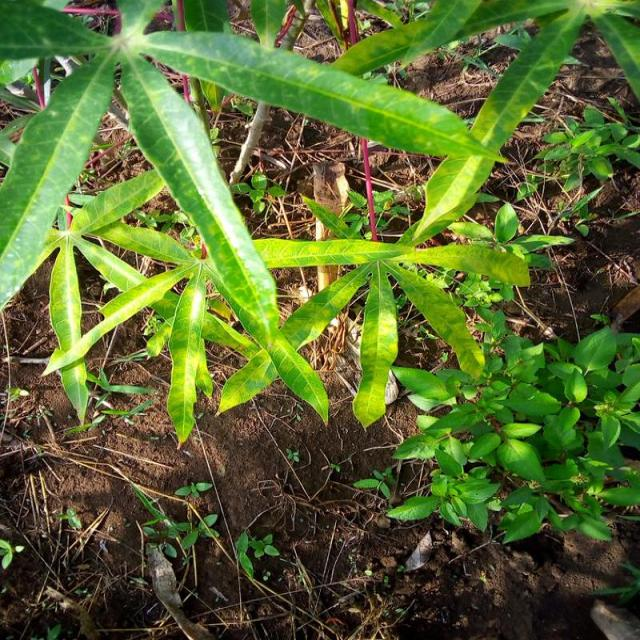cassava leaf: (1, 1, 636, 446), (118, 45, 328, 424), (138, 27, 498, 164)
